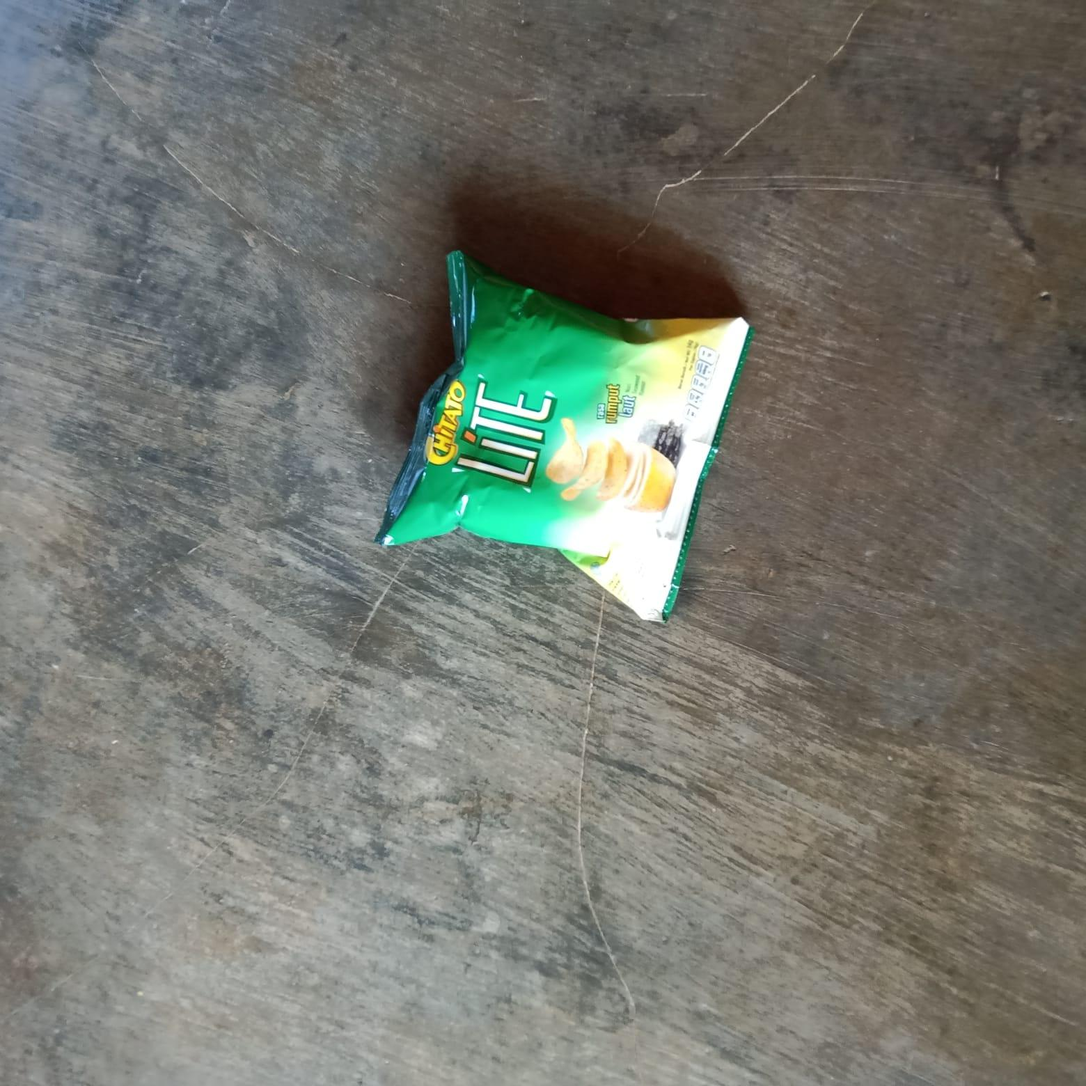Plastik: (375, 251, 755, 625)
